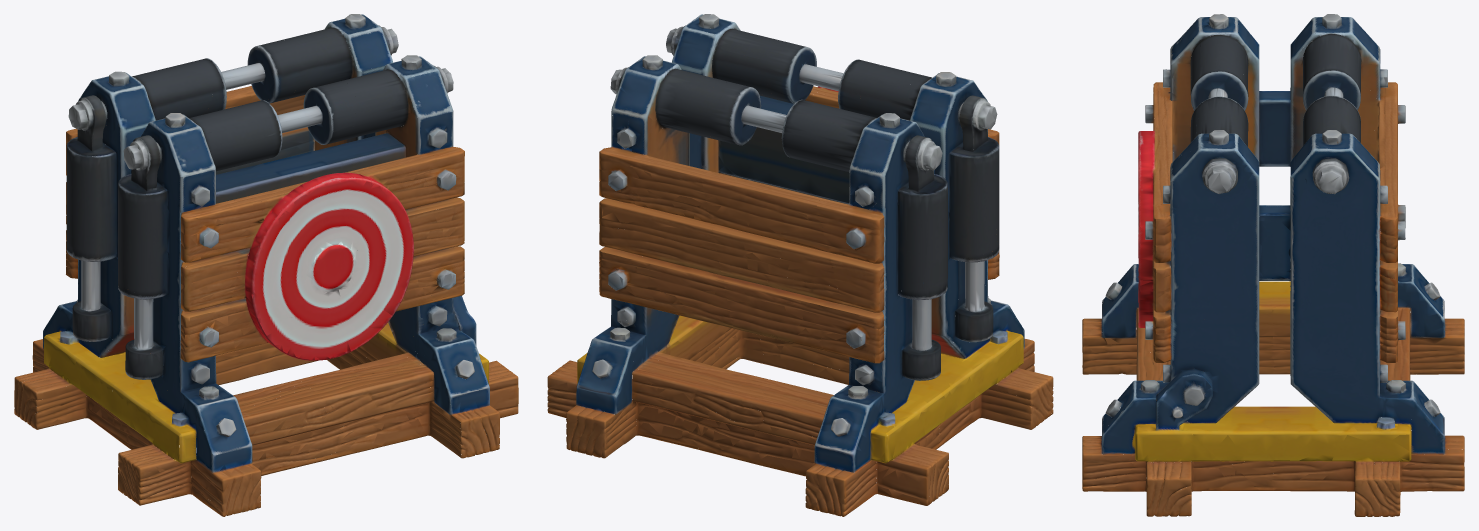
Rendered from obstacle_buffer_stop.glb.
3 views of the same model, side by side, from view 1: azimuth 30°, elevation 25°; view 2: azimuth 150°, elevation 25°; view 3: azimuth 270°, elevation 25° (orthographic).
Visible parts, largest first — view 1: tripo_node_d9077f78-951c-4518-9b03-c40e0f997a44; view 2: tripo_node_d9077f78-951c-4518-9b03-c40e0f997a44; view 3: tripo_node_d9077f78-951c-4518-9b03-c40e0f997a44.
Boxes of the visible parts, left/top/right/bottom form: tripo_node_d9077f78-951c-4518-9b03-c40e0f997a44: left=14, top=14, right=518, bottom=516; tripo_node_d9077f78-951c-4518-9b03-c40e0f997a44: left=547, top=14, right=1053, bottom=516; tripo_node_d9077f78-951c-4518-9b03-c40e0f997a44: left=1082, top=14, right=1464, bottom=516.
Bounding box in the file's own units: 1 × 0.8741 × 0.8679.
Materials: 1 (1 with a texture image).
